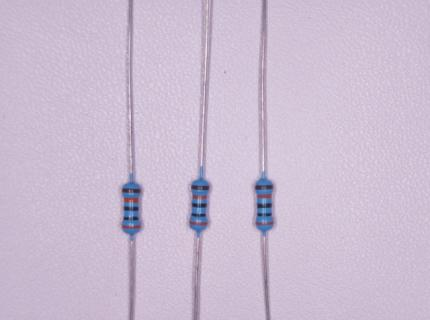Black band: (192, 203, 207, 208), (257, 203, 272, 208), (124, 206, 138, 211), (124, 217, 139, 221), (257, 213, 272, 217), (192, 213, 206, 217)
Brown band: (255, 184, 274, 190), (122, 189, 141, 193), (191, 186, 209, 190)
Orange band: (189, 221, 208, 226), (122, 224, 141, 229), (256, 221, 274, 226), (123, 198, 138, 203), (192, 194, 206, 199), (256, 194, 271, 198)
